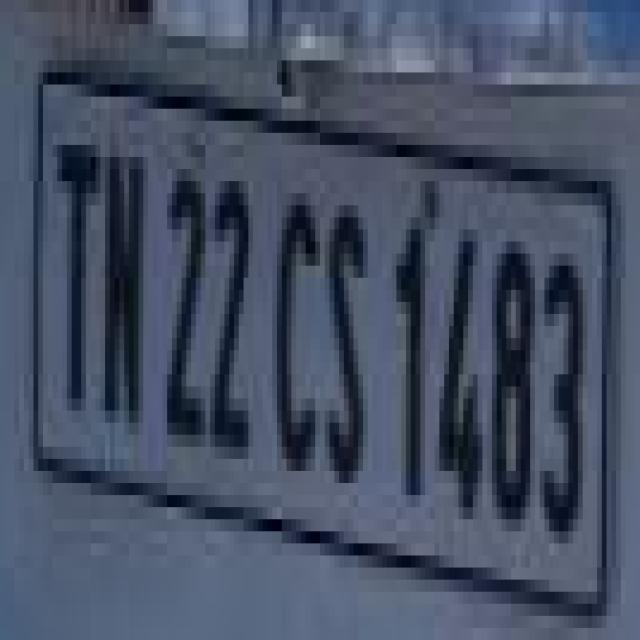plate: (5, 72, 611, 604)
